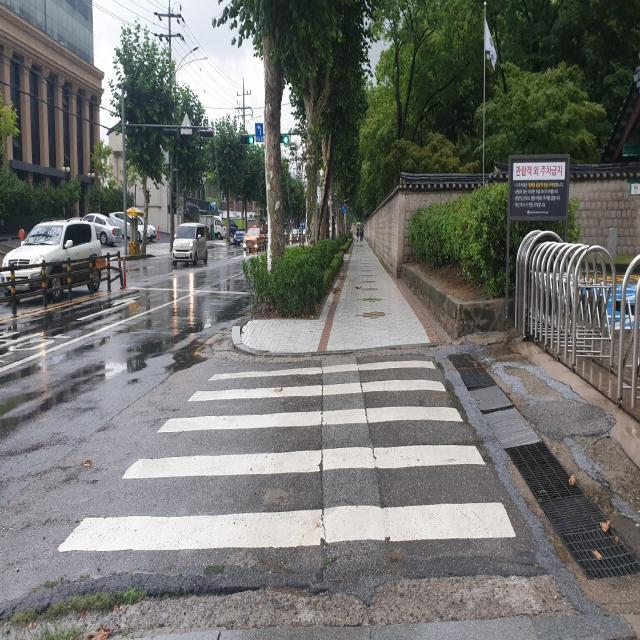횡단보도: (55, 358, 518, 558)
